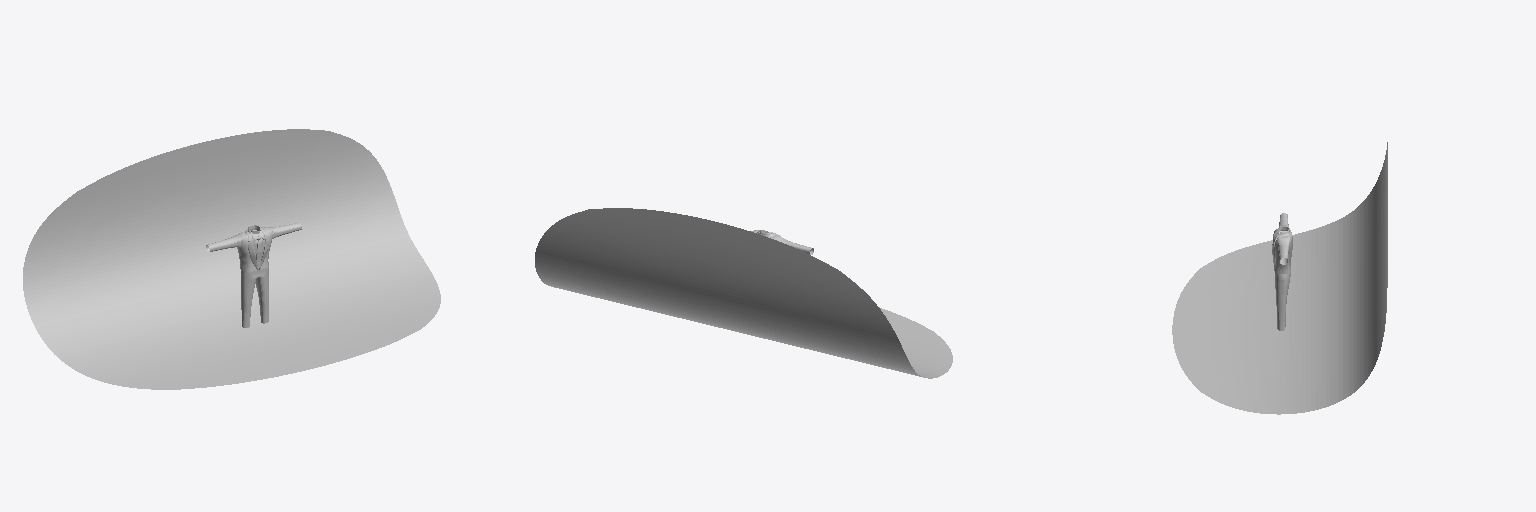
File: simple-basic-men-suit.obj
The picture shows the model from 3 angles: view 1: azimuth 30°, elevation 25°; view 2: azimuth 150°, elevation 25°; view 3: azimuth 270°, elevation 25°; orthographic projection.
Parts seen in each view (by area): view 1: background_Plane, suit_Presenter, trousers_Presenter.001; view 2: background_Plane; view 3: background_Plane, suit_Presenter, trousers_Presenter.001.
Boxes of the visible parts, x1,y1,x2,y2 form: background_Plane: [23, 129, 440, 389]; suit_Presenter: [206, 222, 301, 271]; trousers_Presenter.001: [241, 267, 268, 327]; background_Plane: [535, 208, 952, 378]; background_Plane: [1172, 142, 1387, 414]; suit_Presenter: [1274, 213, 1292, 273]; trousers_Presenter.001: [1275, 272, 1290, 330].
Size of the model in its own units: 41.25 by 15.61 by 20.53.